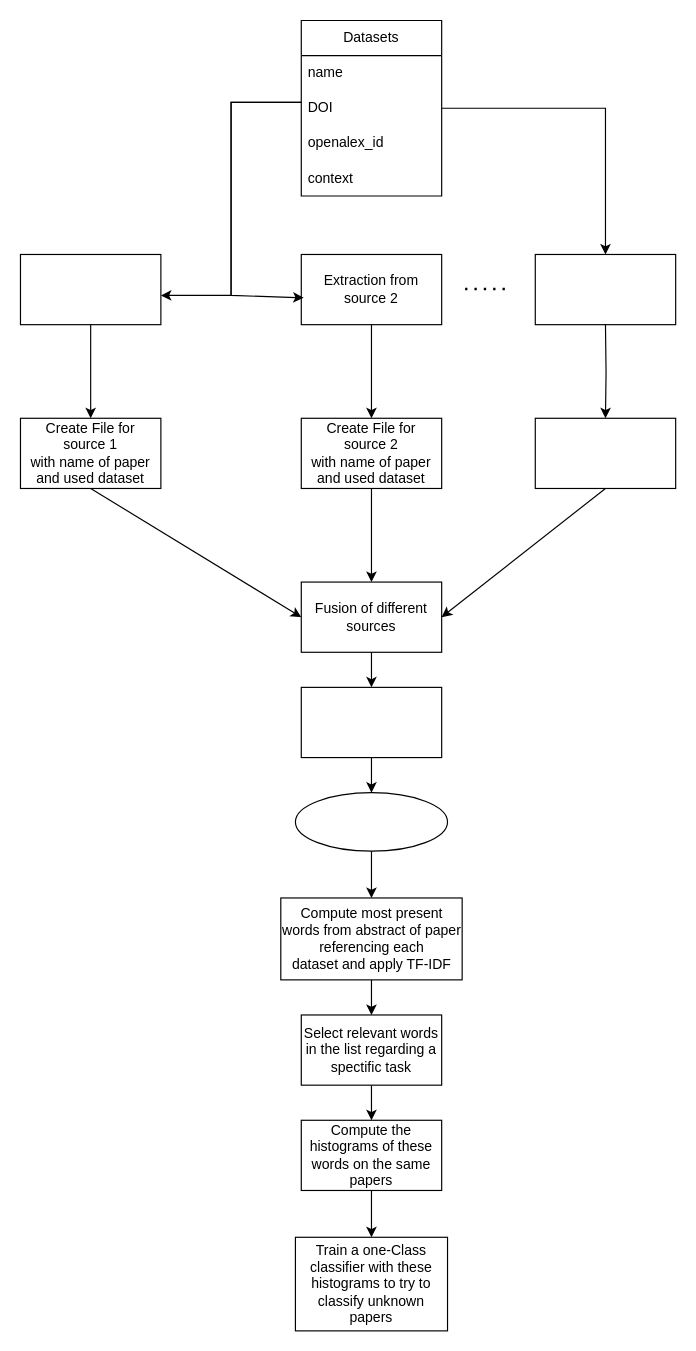
Image size: 696x1351. Some labels were removed from this diagram. The centre of each missing label's shape, as x and y in pixels:
"Add related context and reference type" goes at (x=371, y=722).
"Create File for source N with name of paper and used dataset" goes at (x=605, y=452).
"Extraction from source 1" goes at (x=90, y=289).
"Extraction from source N" goes at (x=605, y=289).
"Final output of references extraction" goes at (x=371, y=821).
